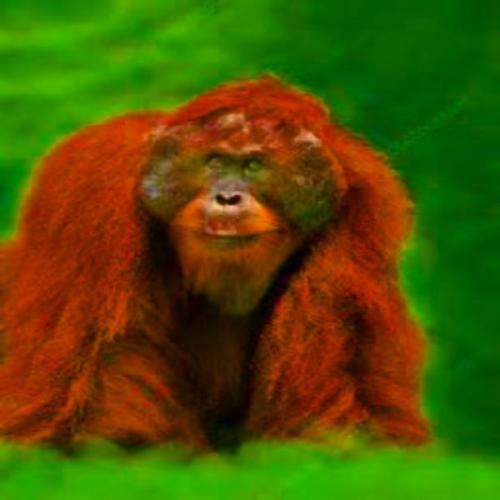orangutan-endangered: (16, 95, 409, 442)
